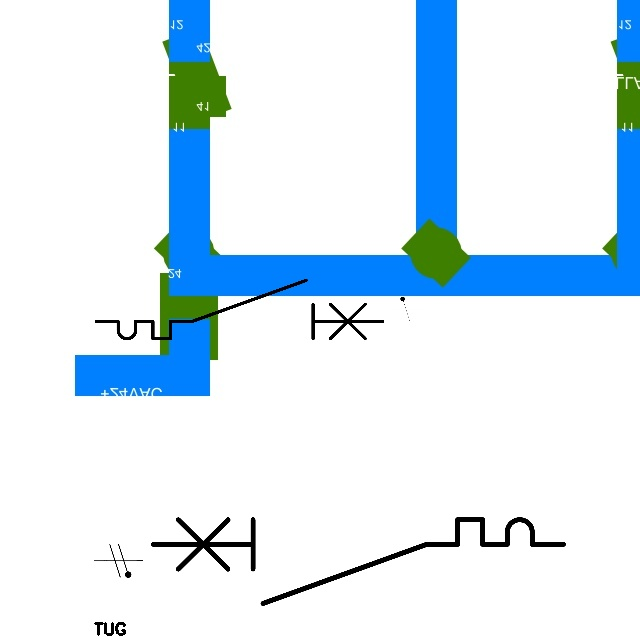interruptor_termomagnetico: (142, 509, 573, 614), (89, 273, 390, 346)
